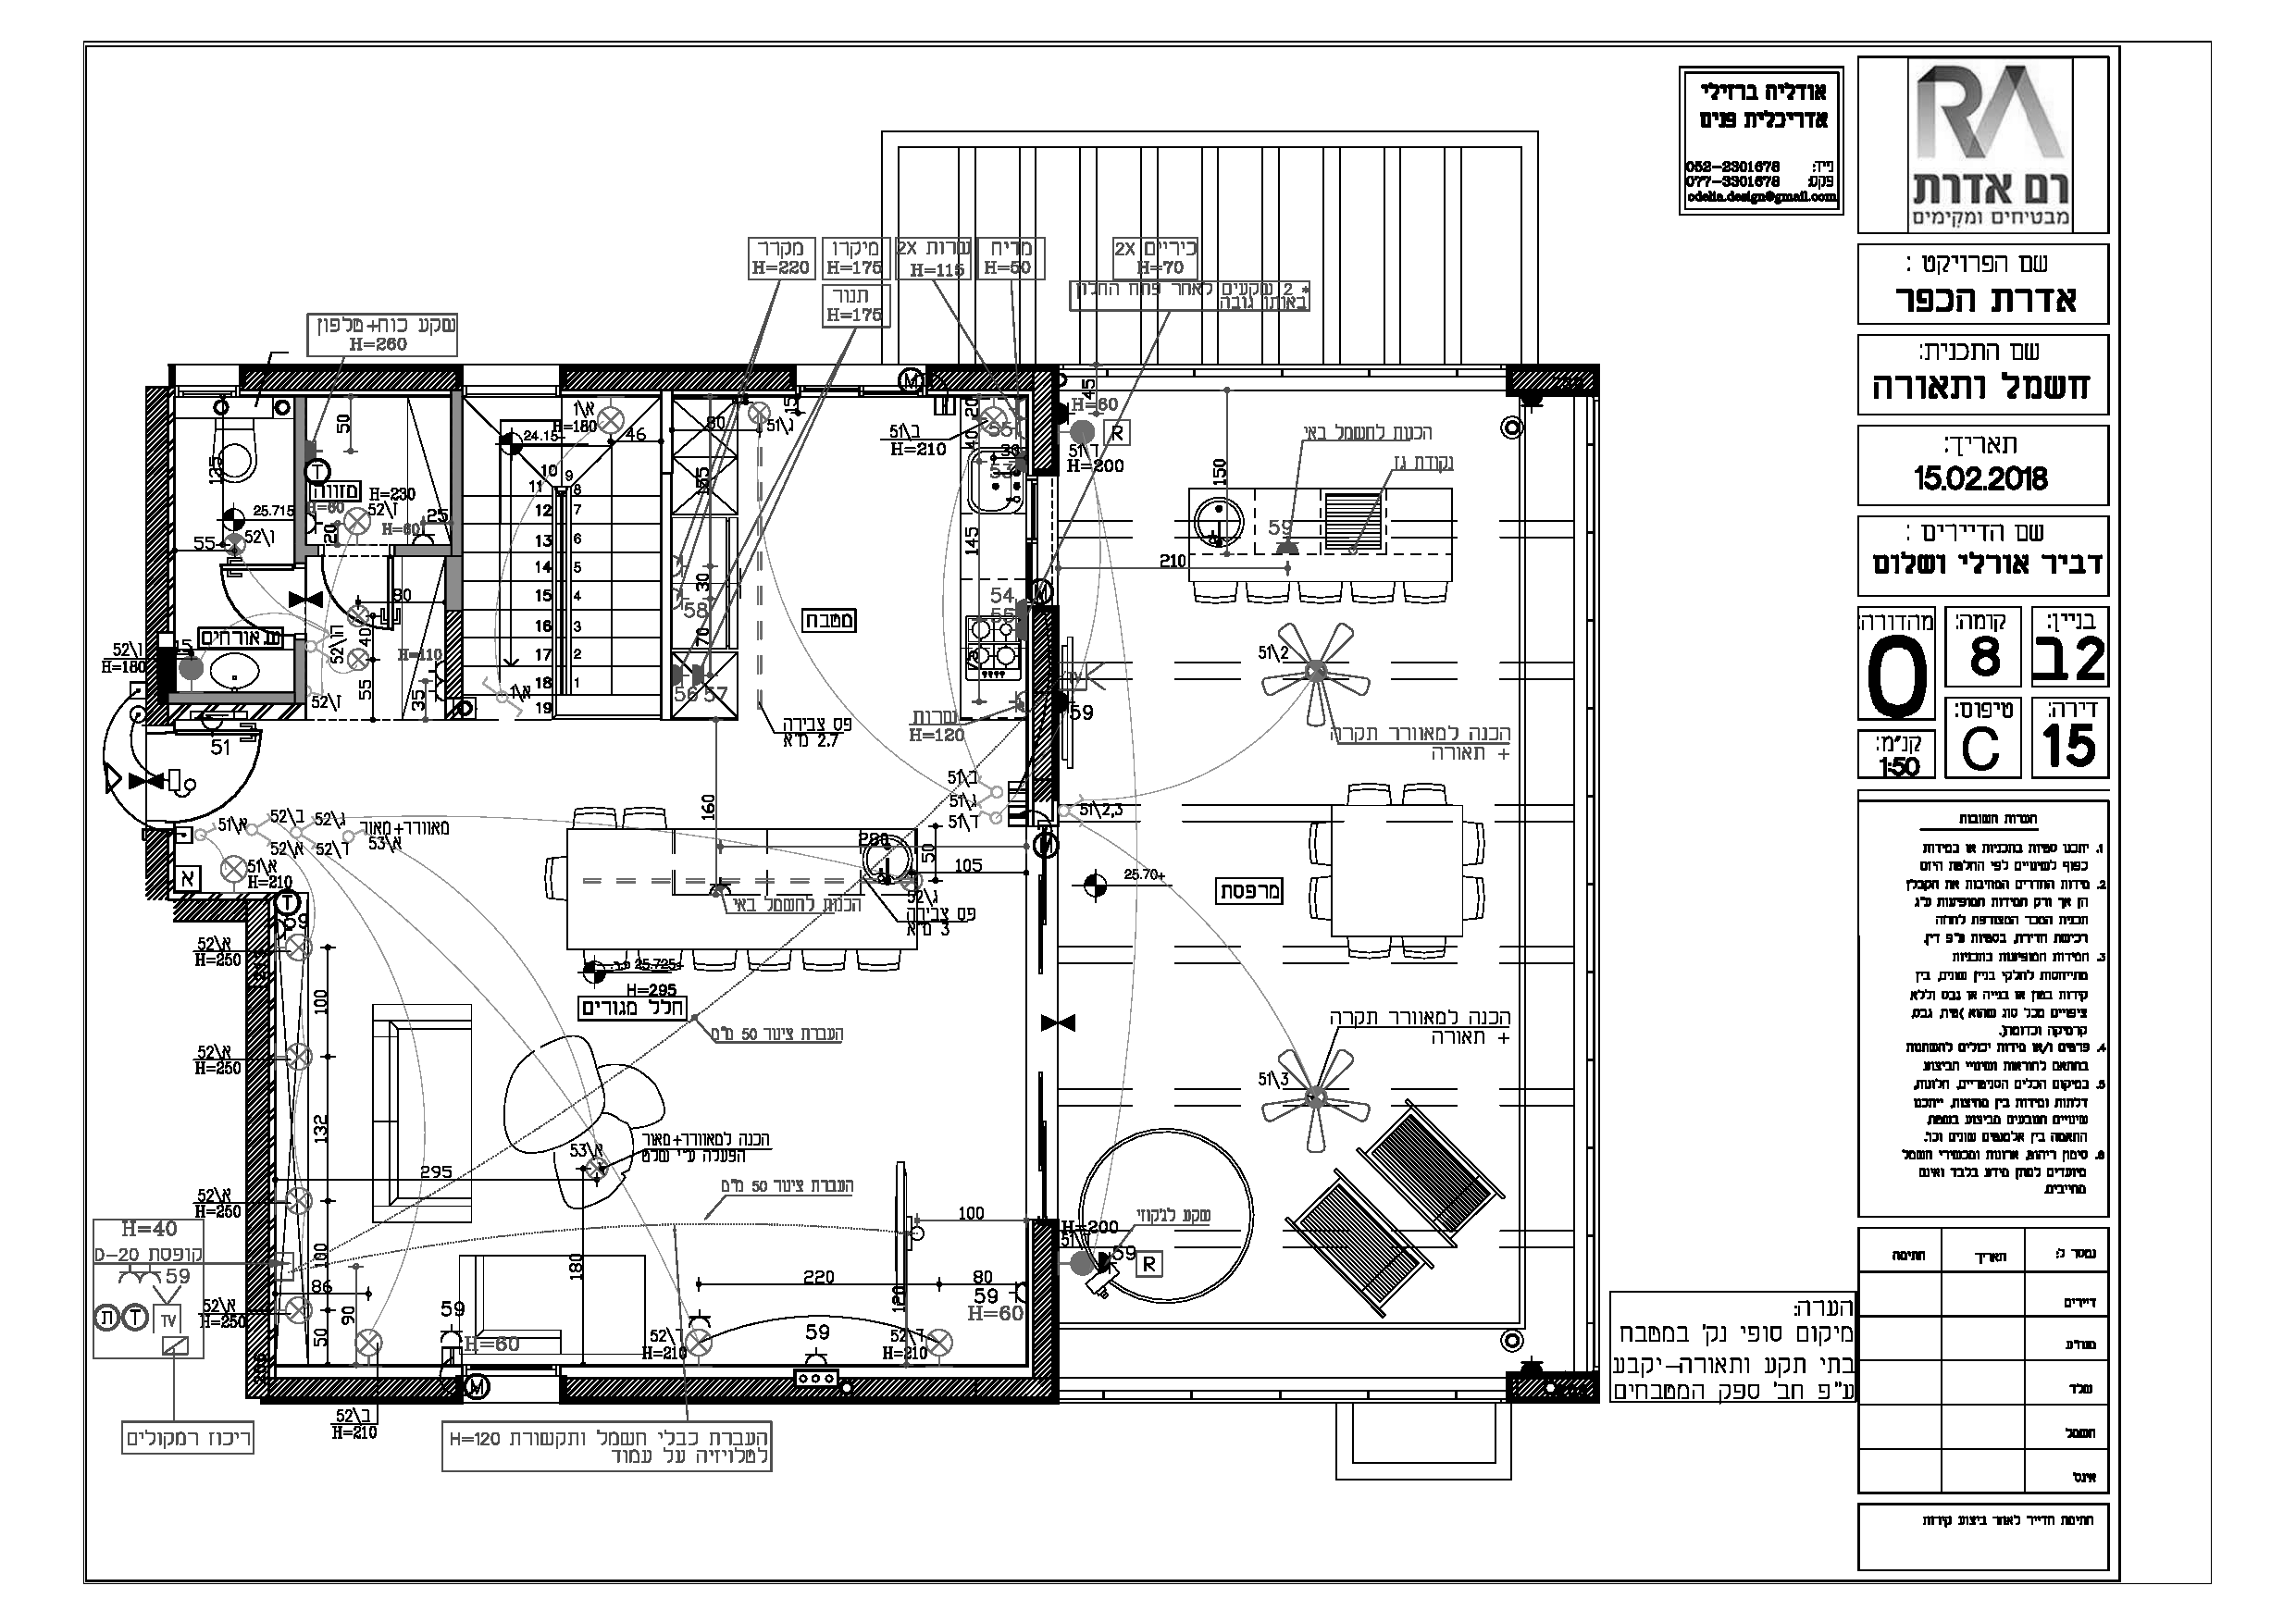door: (156, 724, 286, 829)
wall: (244, 899, 269, 1400)
window: (1024, 474, 1061, 602), (796, 364, 928, 399), (464, 1363, 560, 1403), (462, 364, 560, 399), (174, 364, 239, 395)
